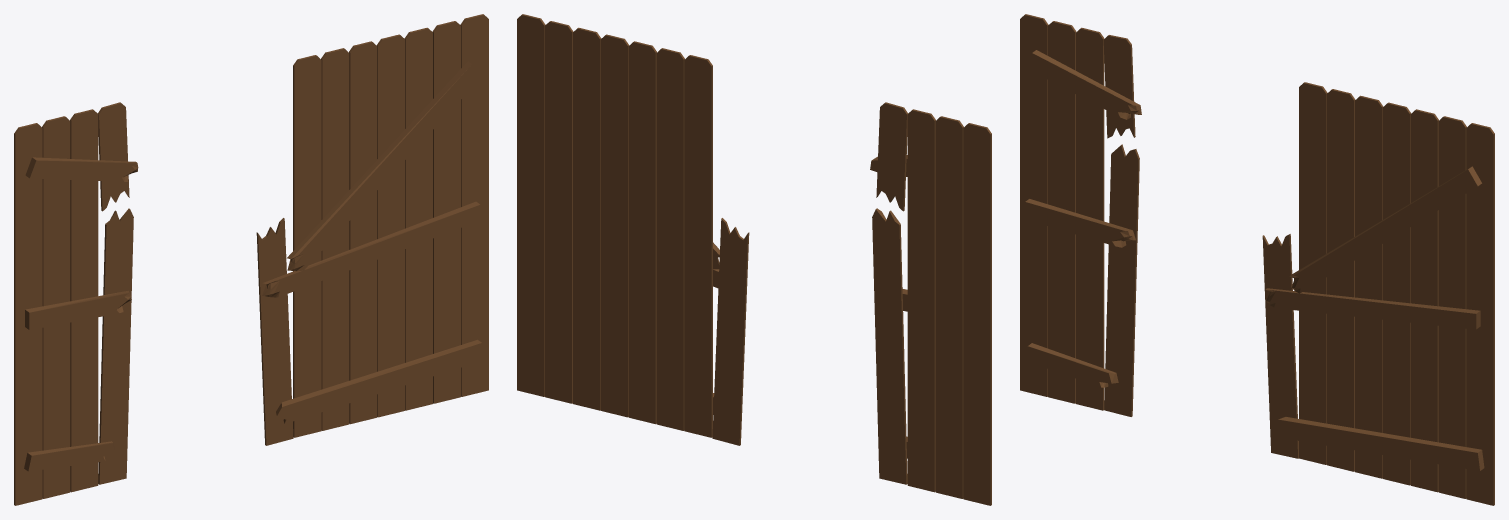
File: privacy-fence-broken.lod1.glb
The picture shows the model from 3 angles, left to right: view 1: azimuth 30°, elevation 25°; view 2: azimuth 150°, elevation 25°; view 3: azimuth 330°, elevation 25°; orthographic projection.
Parts seen in each view (by area): view 1: Fence_17_Broken_Large_Fence_17_Broken_Large_map_0; view 2: Fence_17_Broken_Large_Fence_17_Broken_Large_map_0; view 3: Fence_17_Broken_Large_Fence_17_Broken_Large_map_0.
Part boxes in pixels (x1,y1,x2,y2): Fence_17_Broken_Large_Fence_17_Broken_Large_map_0: (14,14,488,505); Fence_17_Broken_Large_Fence_17_Broken_Large_map_0: (517,14,991,505); Fence_17_Broken_Large_Fence_17_Broken_Large_map_0: (1020,14,1494,505).
Bounding box in the file's own units: 2.72 × 2.08 × 0.0578.
